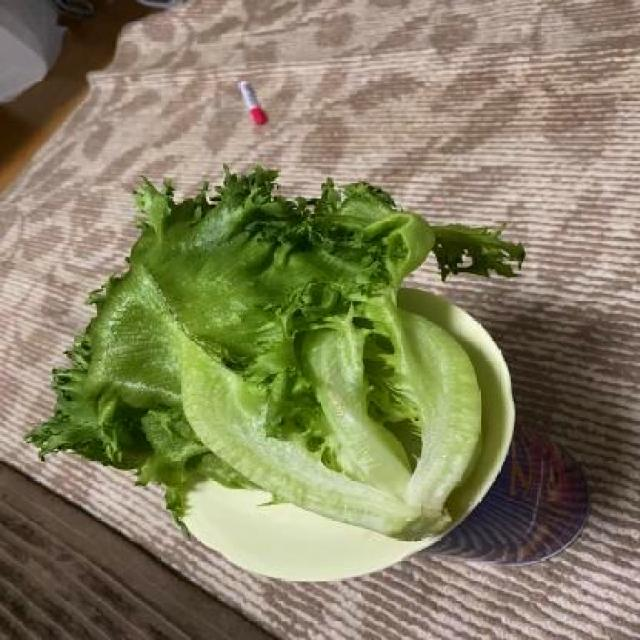Lettuce: (27, 162, 530, 542)
